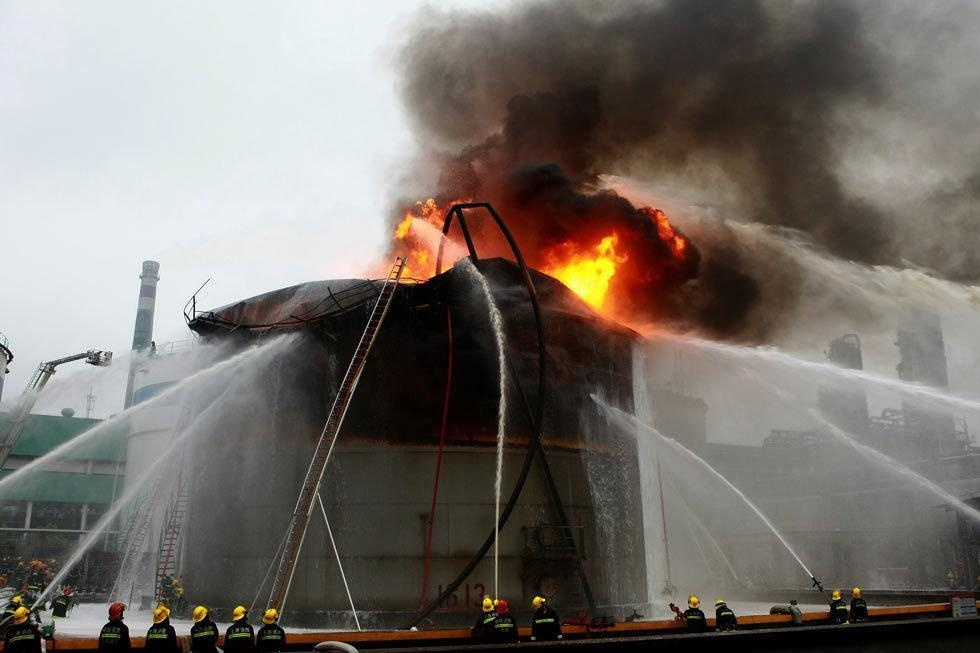fire: (379, 202, 458, 284), (548, 231, 631, 307)
